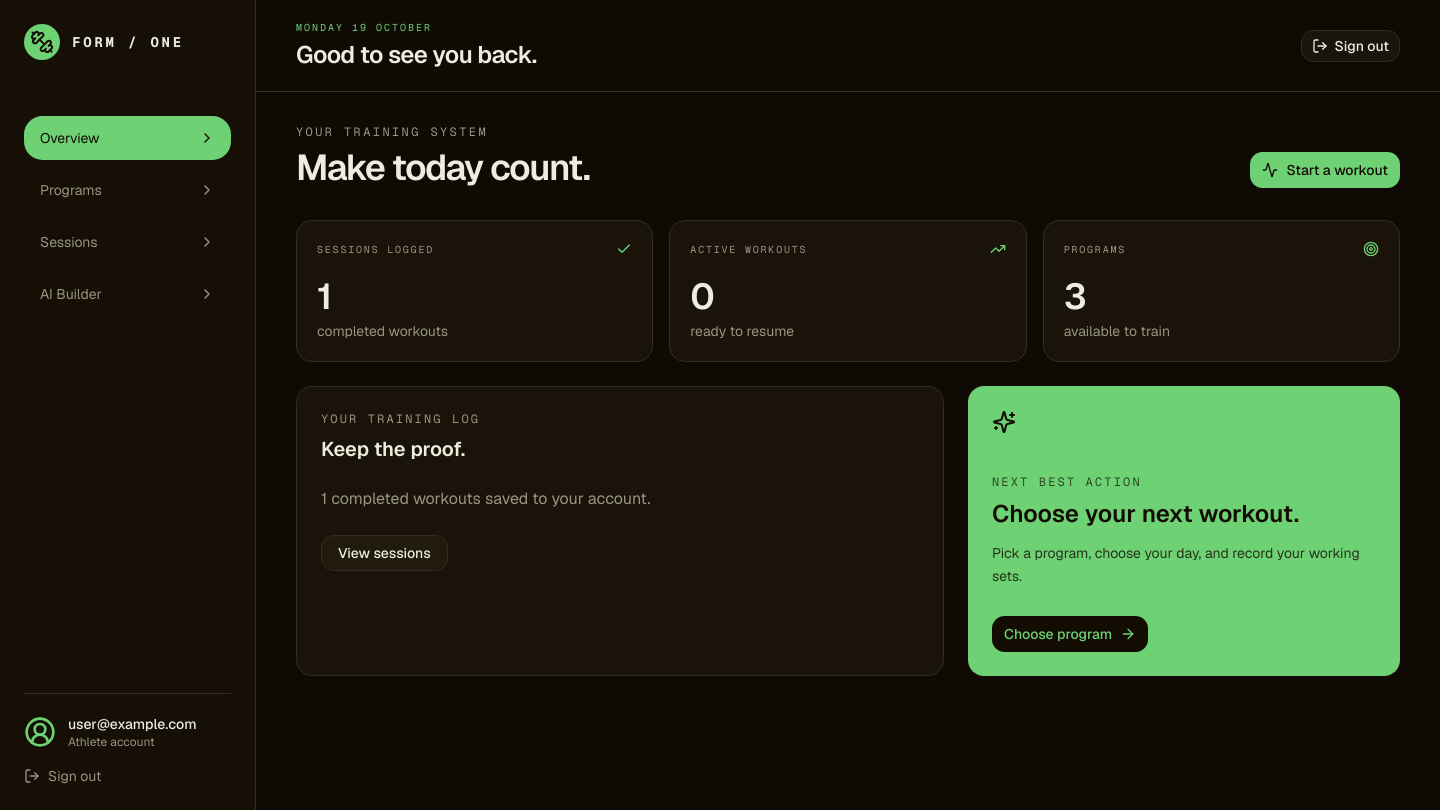
Scenario: hides empty programs and programs without accessible exercises
Click the button "programs".
click(128, 190)  # box [24,168,231,212]
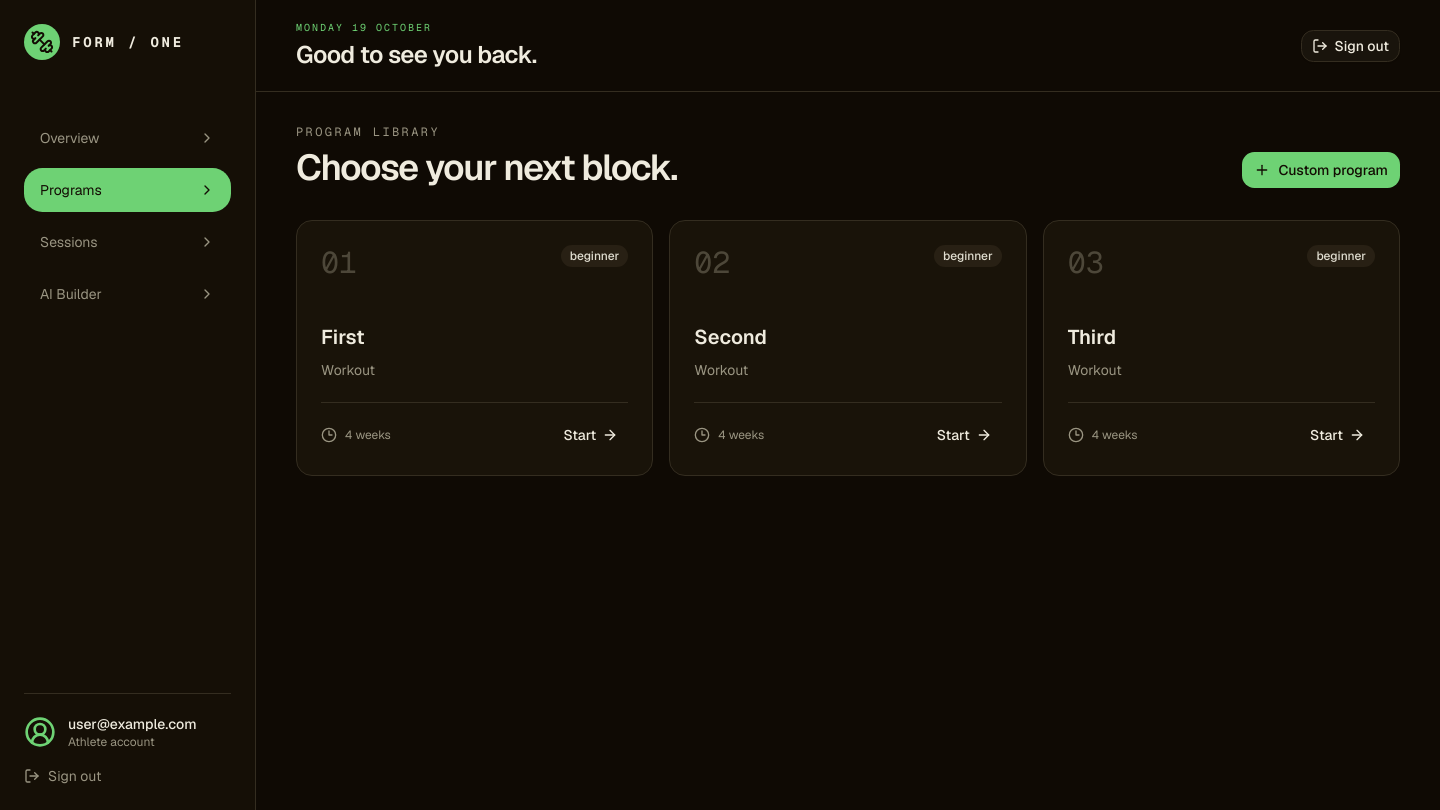
Now the text "Third" is shown, box [1068,324,1116,350]
